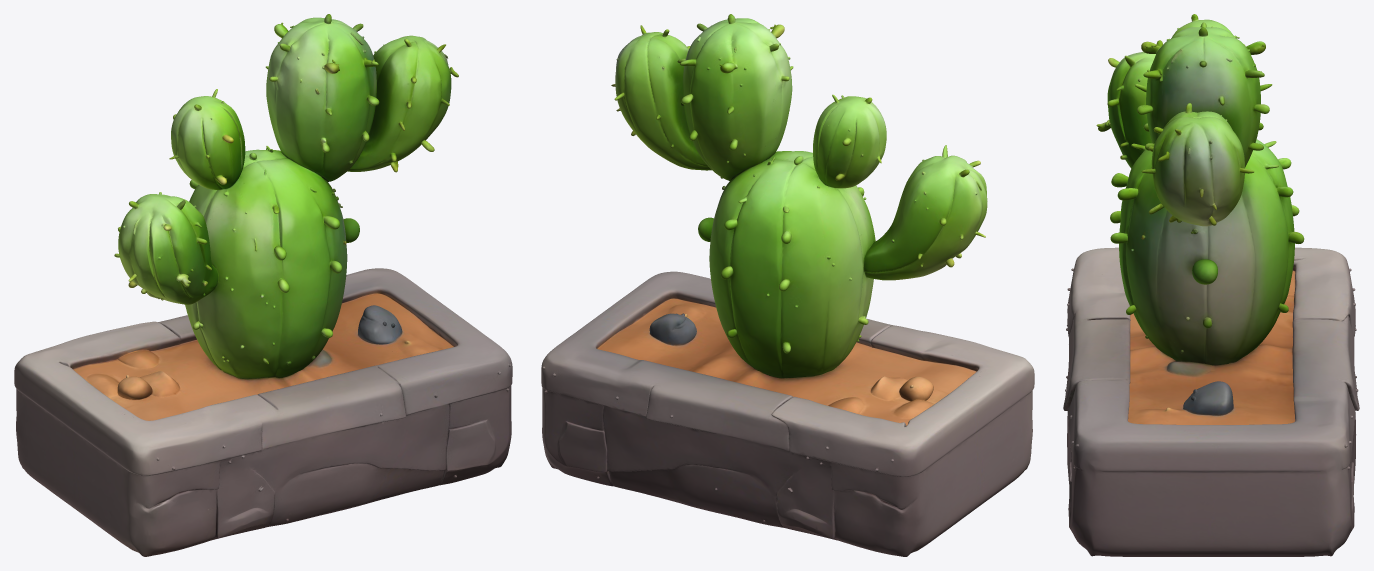
File: wall-cactus.glb
The picture shows the model from 3 angles, left to right: view 1: azimuth 30°, elevation 25°; view 2: azimuth 150°, elevation 25°; view 3: azimuth 270°, elevation 25°; orthographic projection. The views are drawn at different scales.
Visible parts, largest first — view 1: tripo_node_a4f18255-0cc9-4ad9-b699-559ada159c6a; view 2: tripo_node_a4f18255-0cc9-4ad9-b699-559ada159c6a; view 3: tripo_node_a4f18255-0cc9-4ad9-b699-559ada159c6a.
Boxes of the visible parts, x1,y1,x2,y2 form: tripo_node_a4f18255-0cc9-4ad9-b699-559ada159c6a: (14,14,512,556); tripo_node_a4f18255-0cc9-4ad9-b699-559ada159c6a: (541,14,1034,556); tripo_node_a4f18255-0cc9-4ad9-b699-559ada159c6a: (1063,14,1359,556).
Bounding box in the file's own units: 0.9001 × 1 × 0.5704.
Materials: 1 (1 with a texture image).
